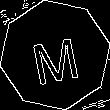M_N: (27, 26, 83, 84)
